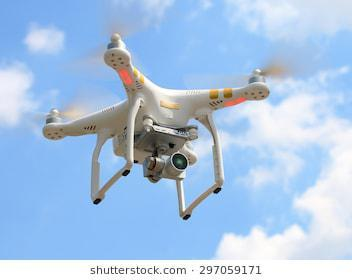drone: (0, 28, 310, 222)
